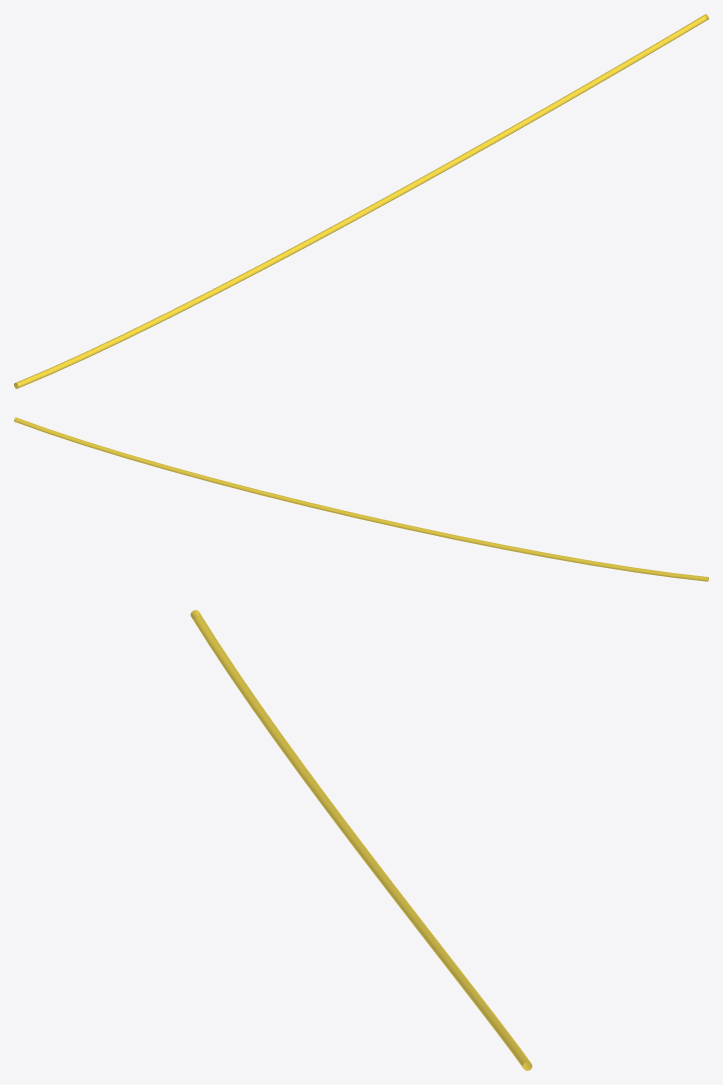
File: Event_100608114_track_107.fbx
3 renders of one model, top to bottom at view 1: azimuth 30°, elevation 25°; view 2: azimuth 150°, elevation 25°; view 3: azimuth 270°, elevation 25°, orthographic. The views are drawn at different scales.
Visible parts, largest first — view 1: Model; view 2: Model; view 3: Model.
Boxes of the visible parts, x1,y1,x2,y2 form: Model: (14, 14, 708, 388); Model: (14, 417, 708, 581); Model: (190, 610, 532, 1070).
Bounding box in the file's own units: 5.91 × 0.7032 × 1.43.
